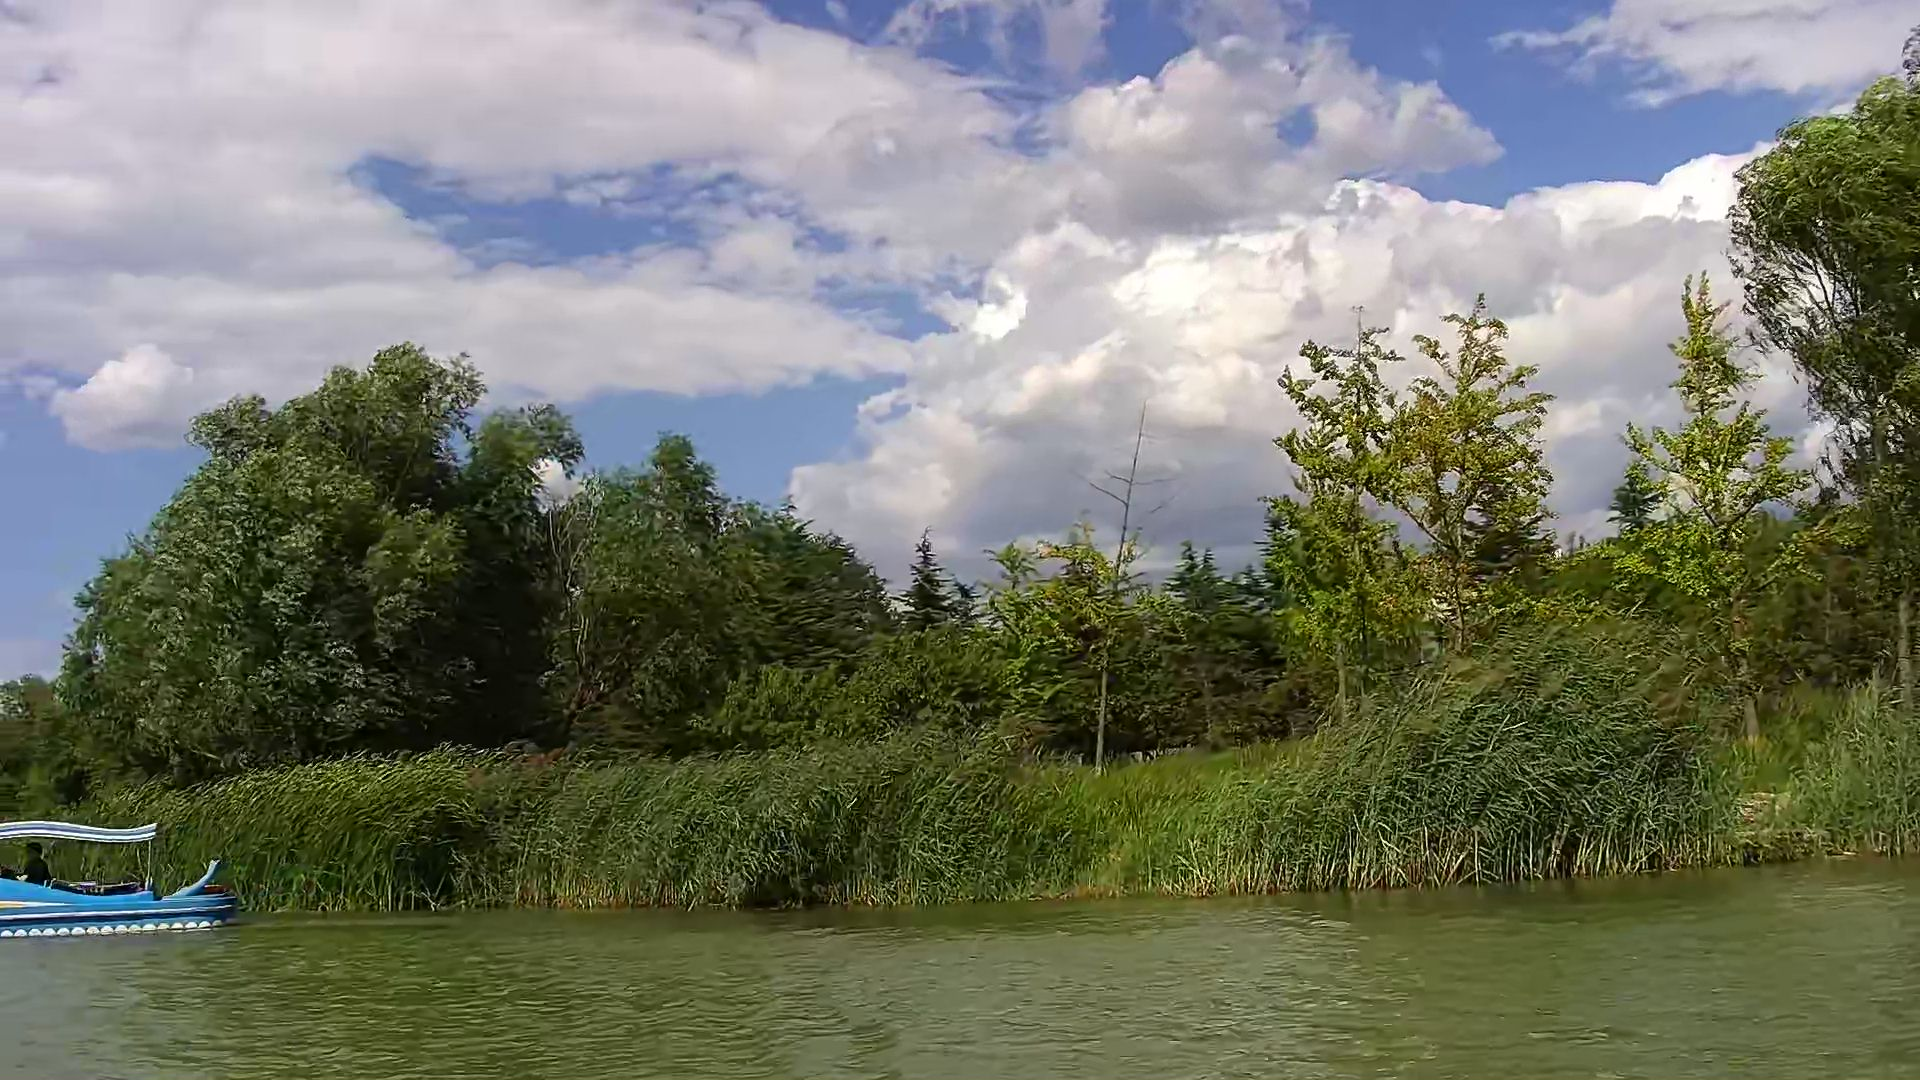boat: (1, 824, 229, 940)
